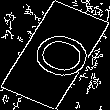O_SE: (15, 24, 95, 86)
